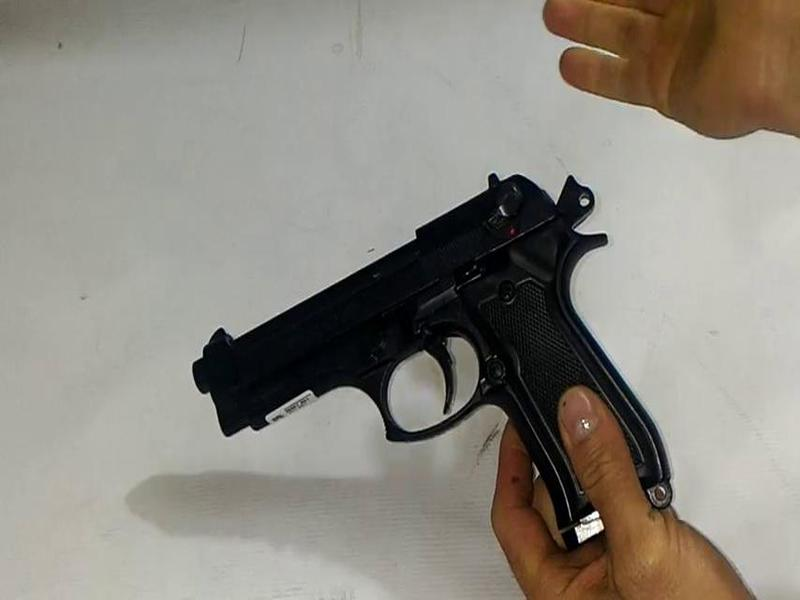Pistola: (173, 154, 686, 525)
